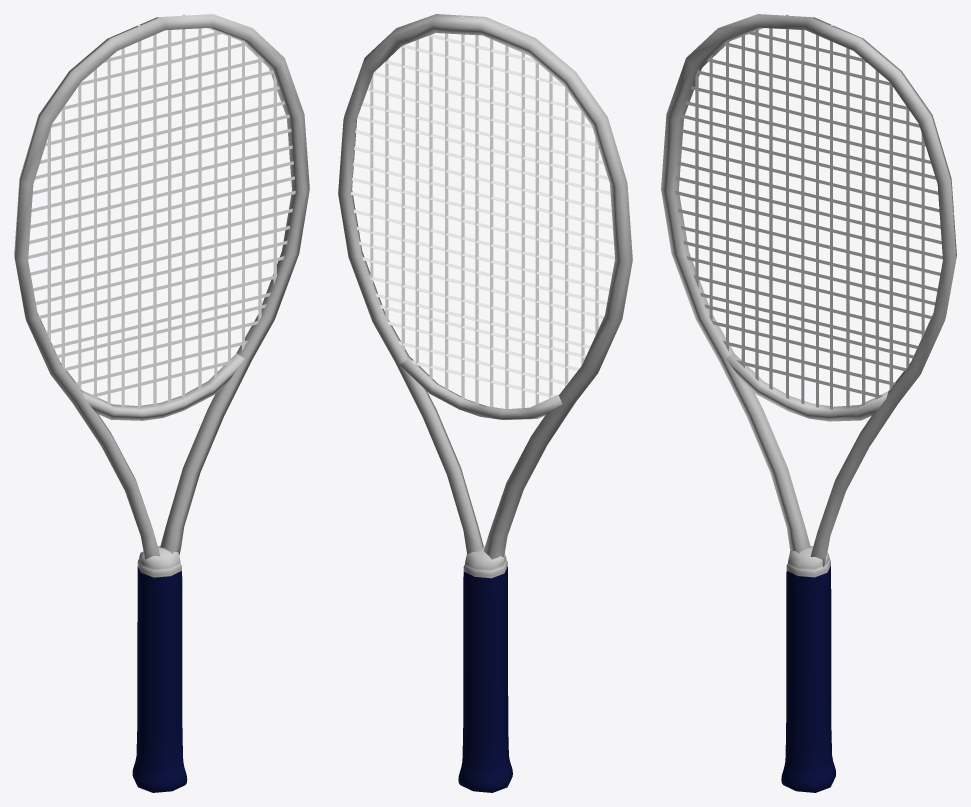
Rendered from Tennis_Racquet_1.obj.
3 views of the same model, side by side, from view 1: azimuth 30°, elevation 25°; view 2: azimuth 150°, elevation 25°; view 3: azimuth 330°, elevation 25° (orthographic).
Parts seen in each view (by area): view 1: Cube.1755; view 2: Cube.1755; view 3: Cube.1755.
Part boxes in pixels (x1,y1,x2,y2): Cube.1755: [14, 14, 309, 792]; Cube.1755: [338, 14, 632, 792]; Cube.1755: [661, 14, 956, 792].
Size of the model in its own units: 0.0219 by 0.0546 by 0.00344.
